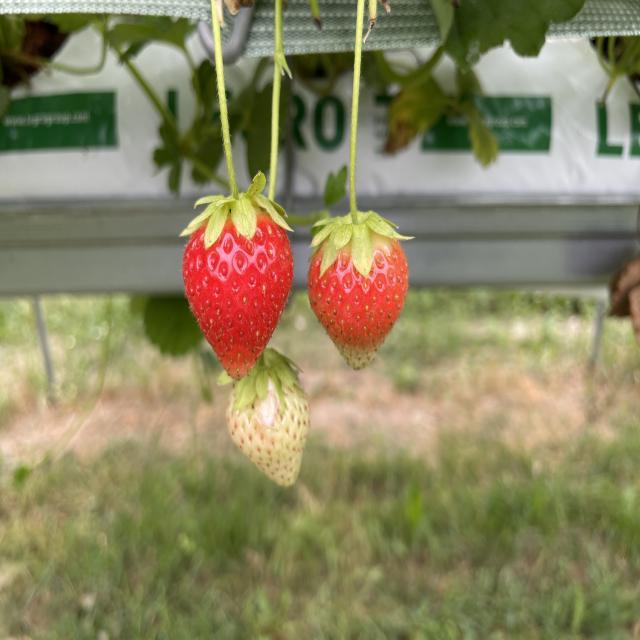stem: (311, 0, 410, 278), (181, 0, 291, 248)
strawberryNR: (226, 380, 309, 486)
strawberryR: (182, 214, 292, 379), (309, 236, 408, 369)
